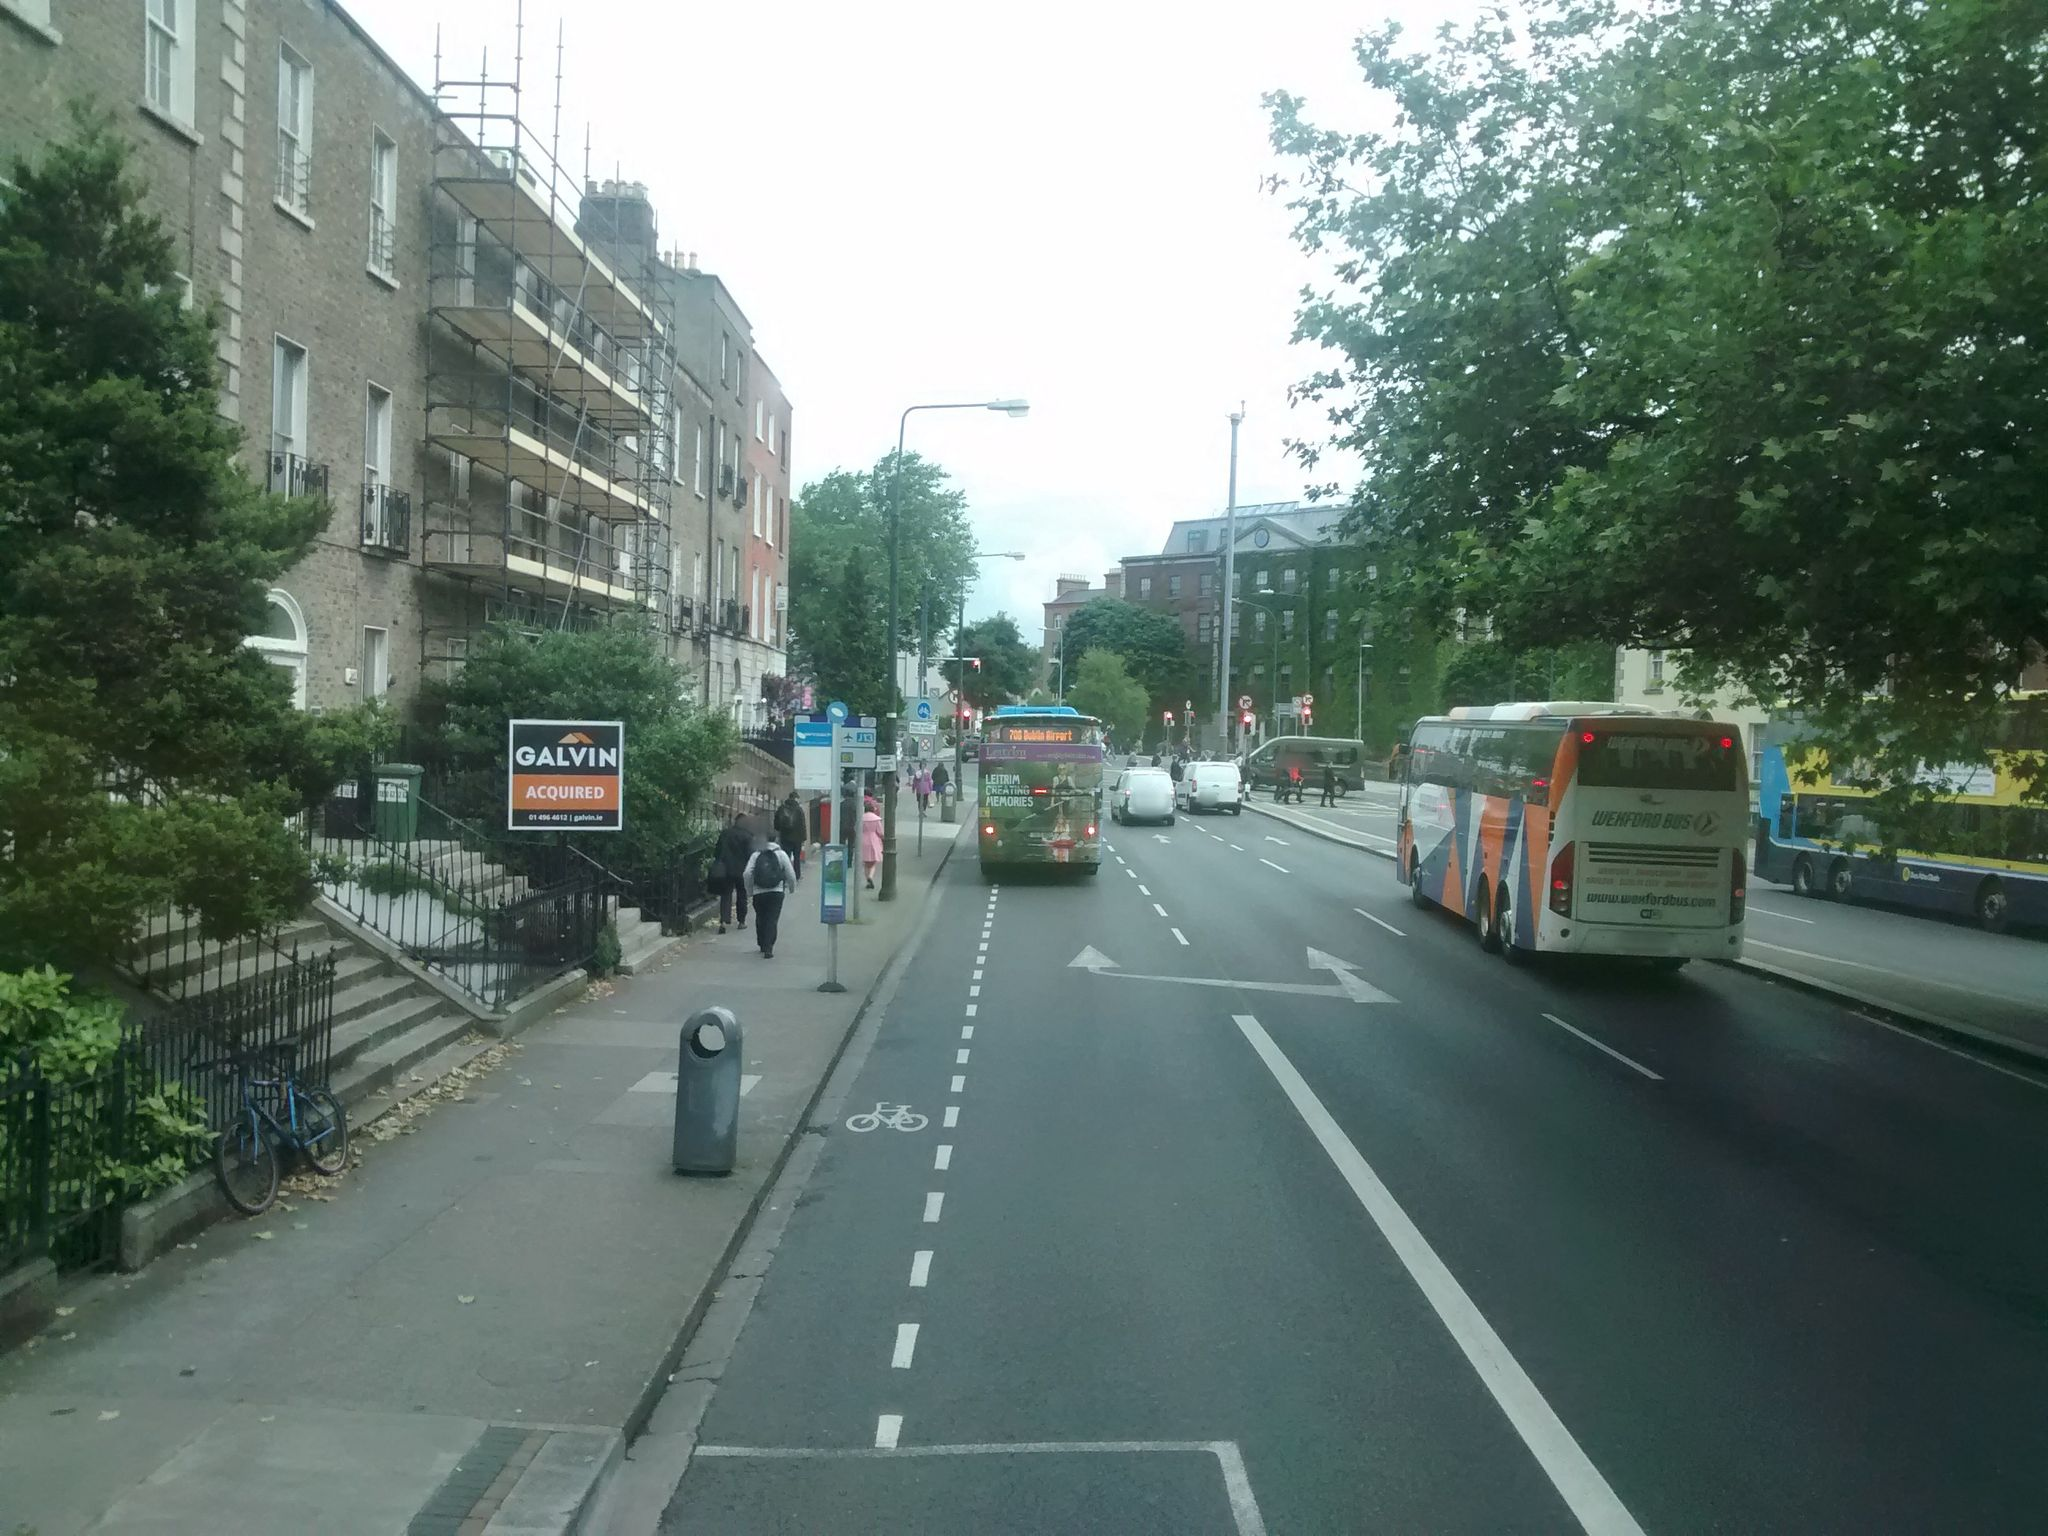property sign: (481, 697, 635, 847)
